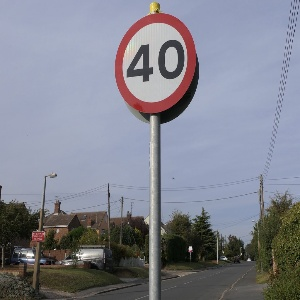40 speed: (115, 14, 197, 113)
